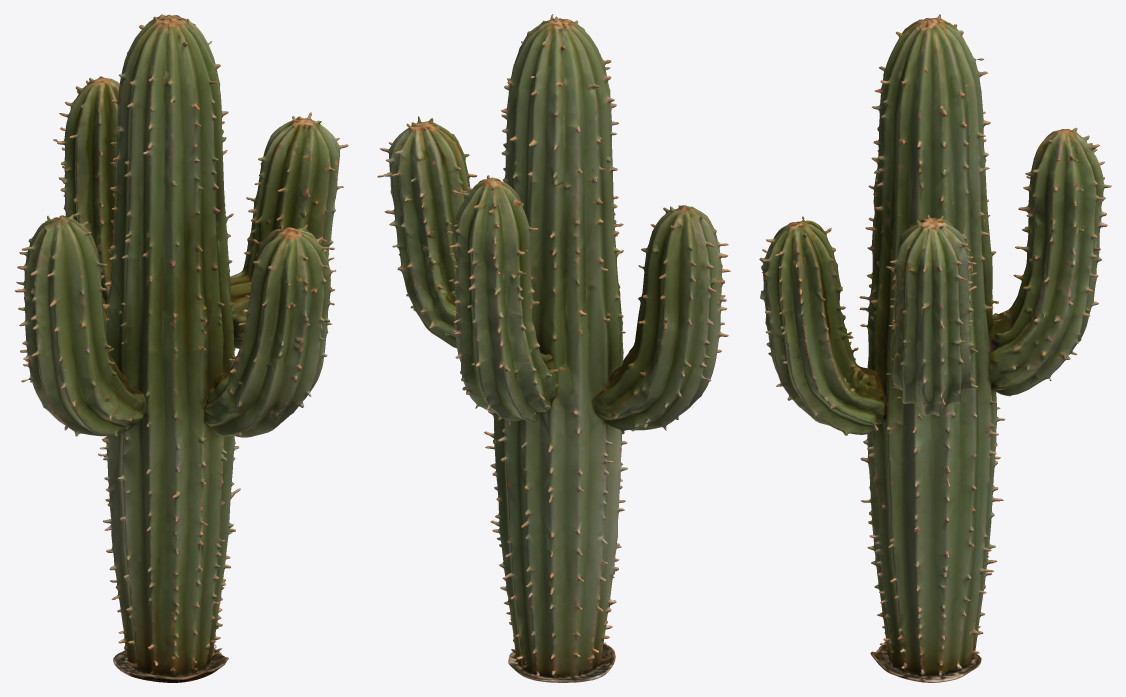
File: nature-cactus.glb
The picture shows the model from 3 angles, left to right: view 1: azimuth 30°, elevation 25°; view 2: azimuth 150°, elevation 25°; view 3: azimuth 270°, elevation 25°; orthographic projection.
Visible parts, largest first — view 1: tripo_node_230a494f-20c5-489f-bfc1-eea45052c9c0; view 2: tripo_node_230a494f-20c5-489f-bfc1-eea45052c9c0; view 3: tripo_node_230a494f-20c5-489f-bfc1-eea45052c9c0.
Boxes of the visible parts, x1=… form: tripo_node_230a494f-20c5-489f-bfc1-eea45052c9c0: x1=14, y1=14, x2=348, y2=682; tripo_node_230a494f-20c5-489f-bfc1-eea45052c9c0: x1=377, y1=14, x2=730, y2=682; tripo_node_230a494f-20c5-489f-bfc1-eea45052c9c0: x1=759, y1=14, x2=1111, y2=682.
Bounding box in the file's own units: 2.14 × 4 × 1.98.
Materials: 1 (1 with a texture image).
